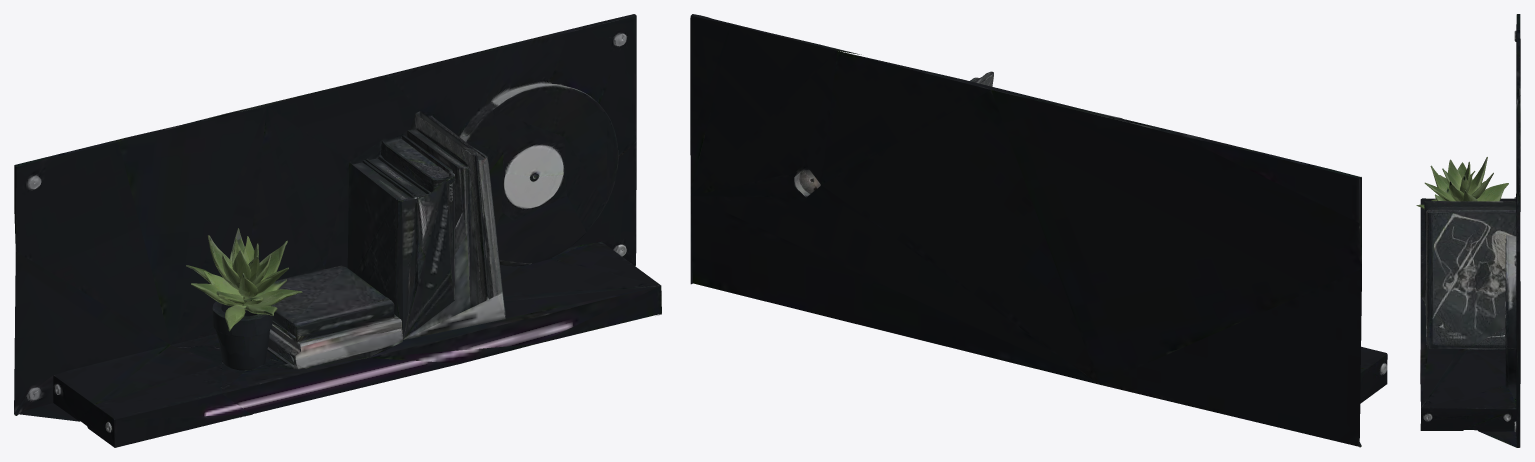
File: shelf.glb
3 renders of one model, left to right at view 1: azimuth 30°, elevation 25°; view 2: azimuth 150°, elevation 25°; view 3: azimuth 270°, elevation 25°, orthographic. The views are drawn at different scales.
Bounding box in the file's own units: 1.9 × 0.7326 × 0.3519.
Materials: 1 (1 with a texture image).
